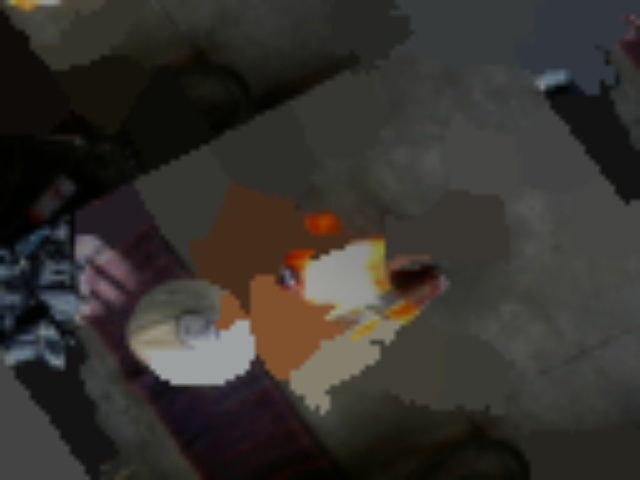two: (165, 304, 224, 356)
